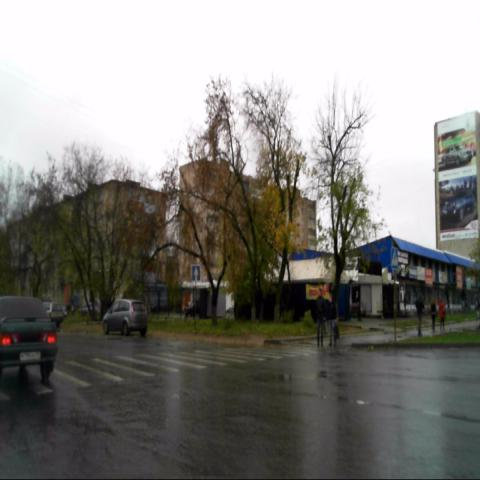5_5: (192, 265, 200, 279)
